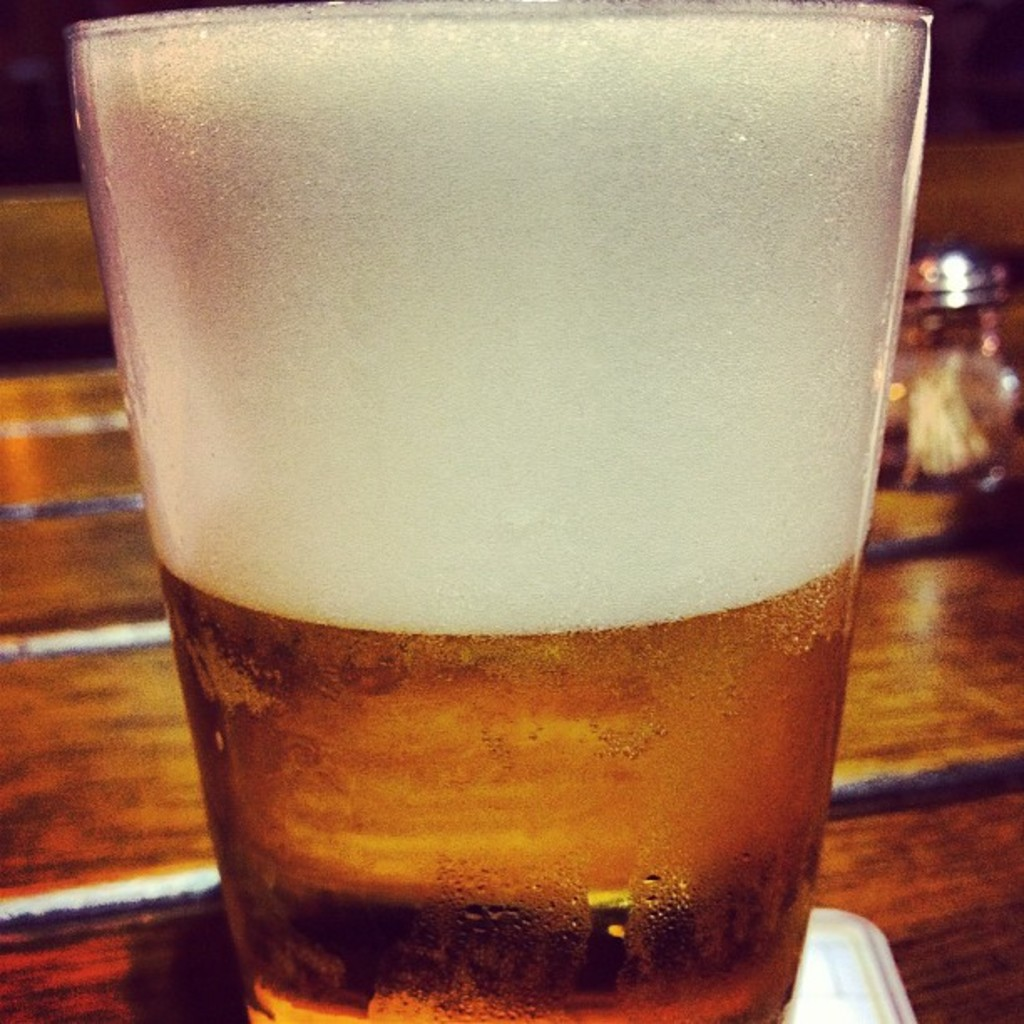Beer: (63, 0, 933, 1022)
